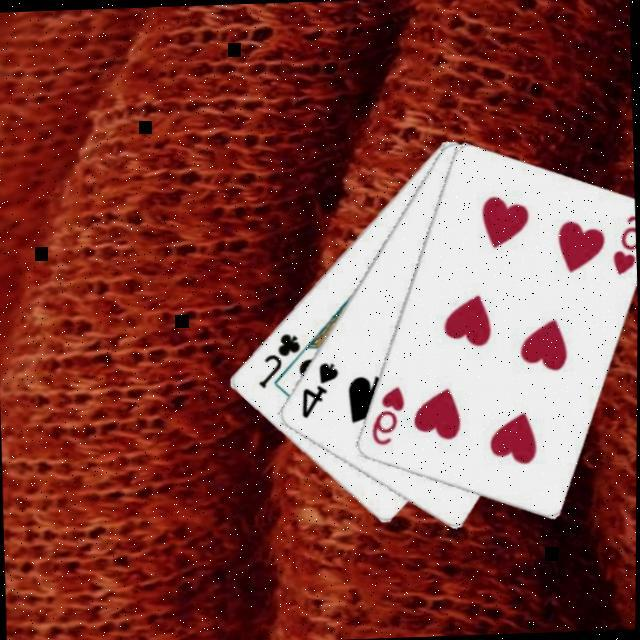4S: (295, 357, 341, 420)
6H: (365, 381, 407, 446), (606, 209, 637, 275)
JC: (251, 327, 303, 389)
